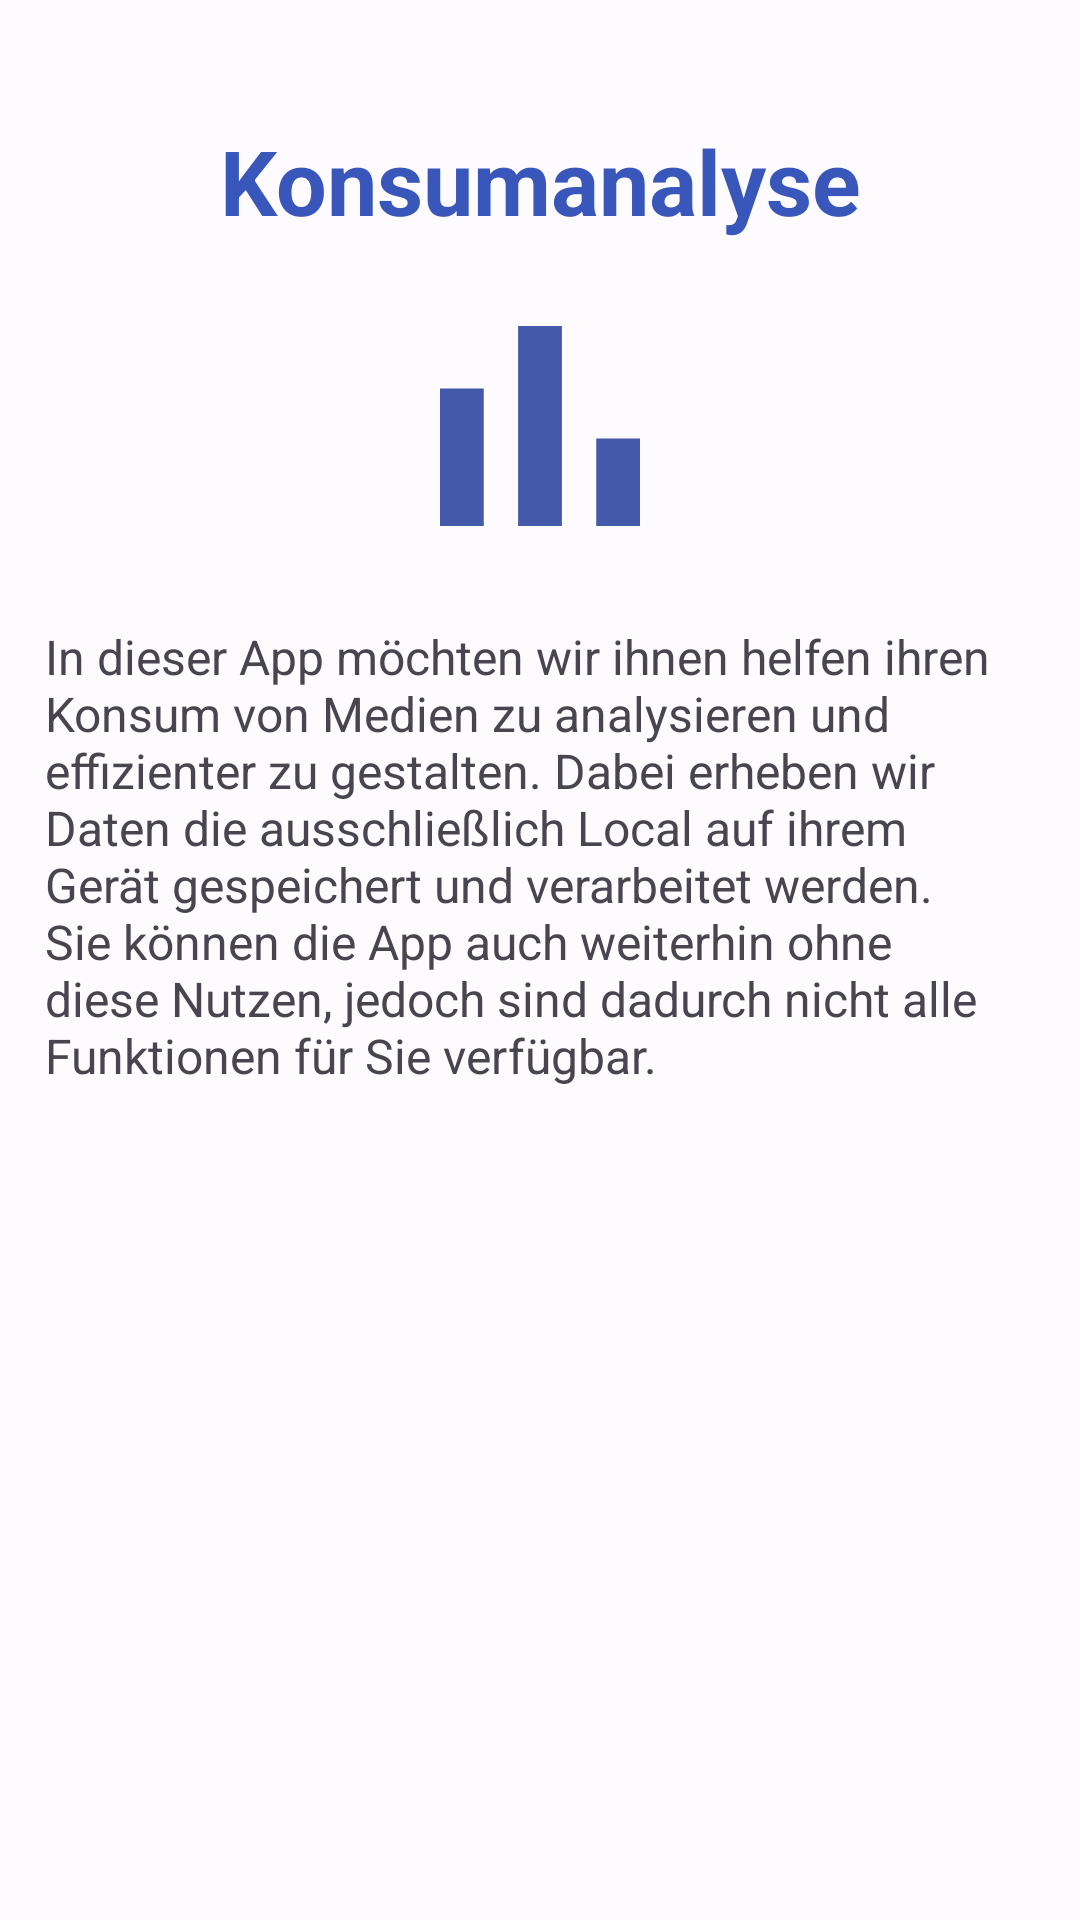

Where to tap for icons on this 1080×1920 app screen, as (x,y):
graph: (540,426)
